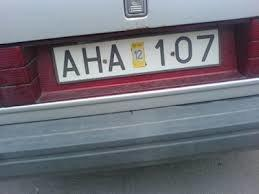license-plates: (53, 30, 219, 82)
